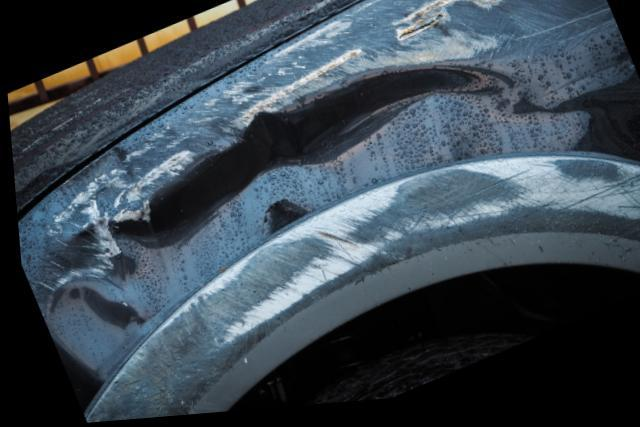dent: (40, 73, 522, 375)
scratch: (23, 0, 615, 319), (78, 161, 640, 424)
